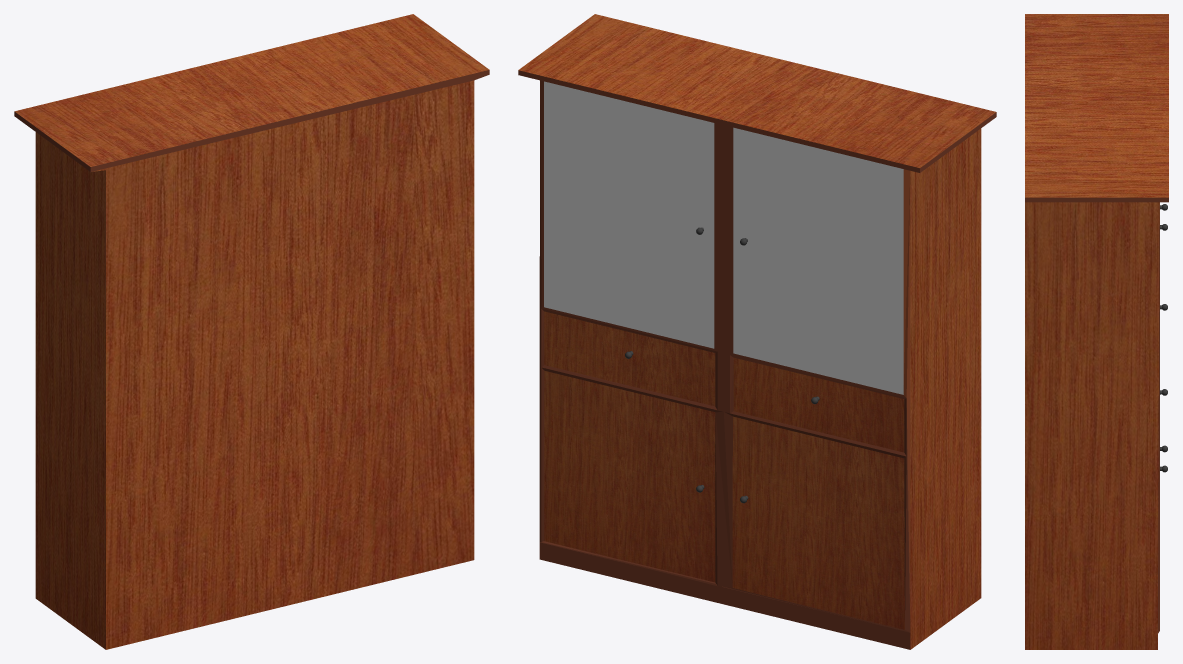
Rendered from closet.dae.
3 views of the same model, side by side, from view 1: azimuth 30°, elevation 25°; view 2: azimuth 150°, elevation 25°; view 3: azimuth 270°, elevation 25° (orthographic). The views are drawn at different scales.
Visible parts, largest first — view 1: Mesh; view 2: Mesh, Glass; view 3: Mesh, Sphere.
Part boxes in pixels (x1=…): Mesh: x1=14, y1=14, x2=489, y2=649; Mesh: x1=518, y1=14, x2=996, y2=649; Glass: x1=544, y1=81, x2=903, y2=394; Mesh: x1=1025, y1=14, x2=1168, y2=649; Sphere: x1=1160, y1=204, x2=1167, y2=472.
Size of the model in its own units: 1.64 by 0.5423 by 1.91.
